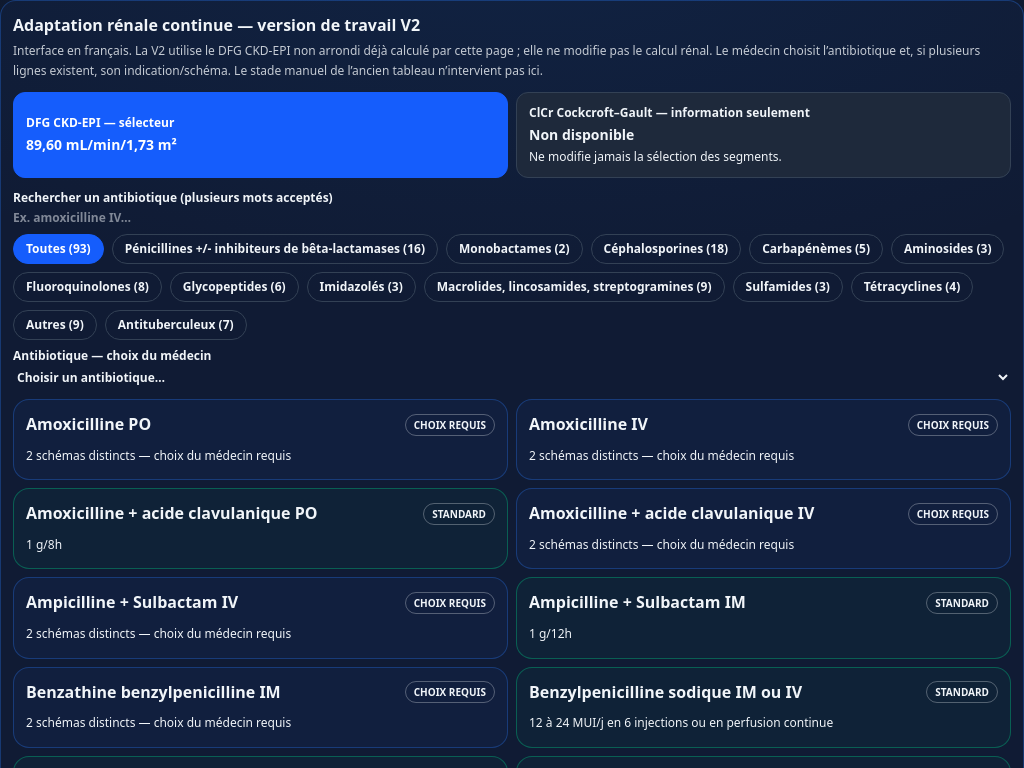
Test case: intégration du sélecteur rénal V2 › signale la limite arrondie tout en sélectionnant avec le DFG brut
The width and height of the screenshot is (1024, 768).
Select "Céfidérocol IV" in the dropdown labelled "Antibiotique — choix du médecin": [512, 378] box [13, 368, 1011, 387]
(page scrolled)
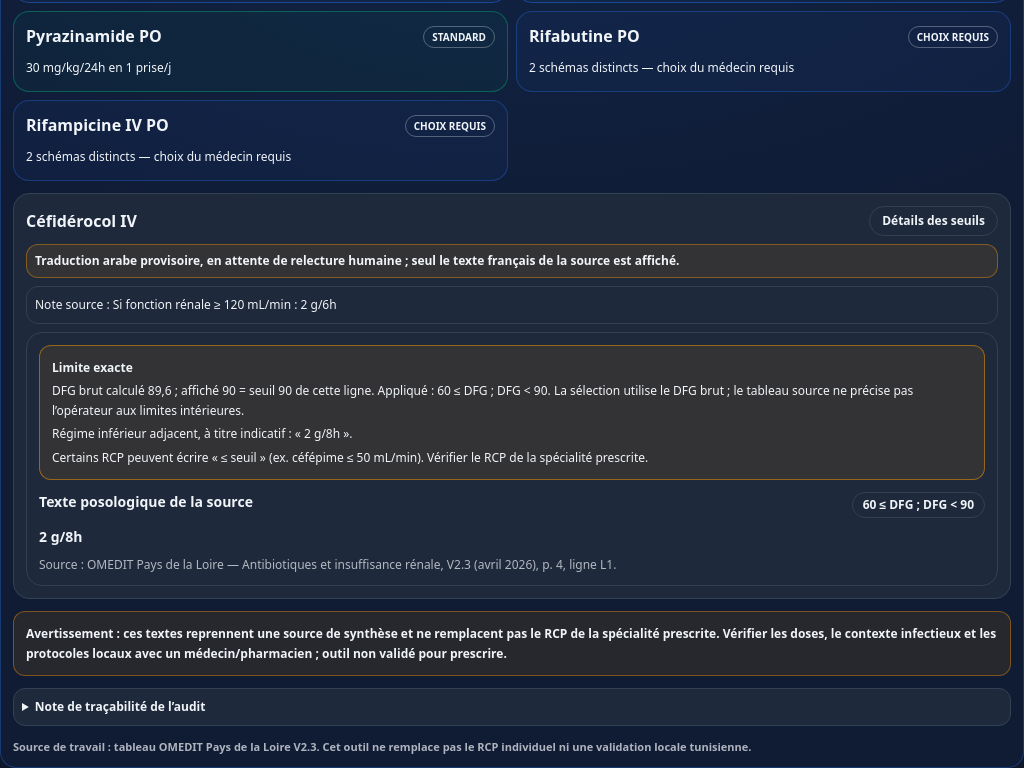
Expected: the element with test id "atb-v2-result" shows "DFG brut calculé 89,6", [26, 332, 998, 586]
Expected: the element with test id "atb-v2-result" shows "seuil 90", [26, 332, 998, 586]
Expected: the element with test id "atb-v2-result" shows "2 g/8h", [304, 425, 340, 442]
